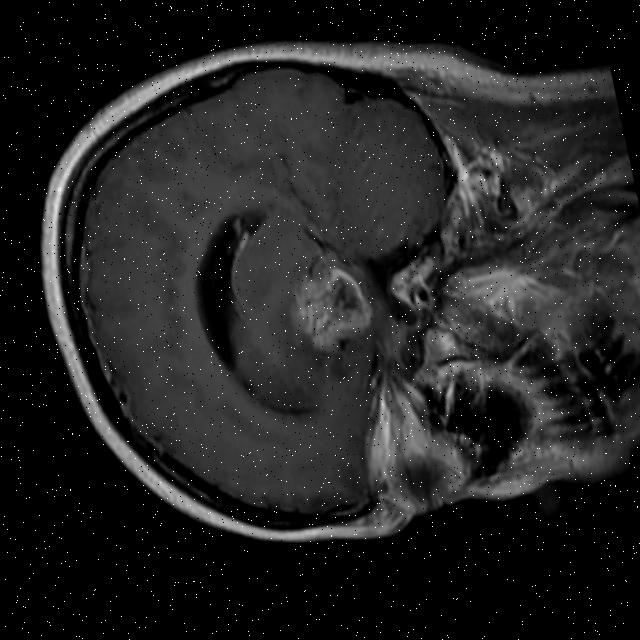Glioma: (281, 262, 382, 361)
